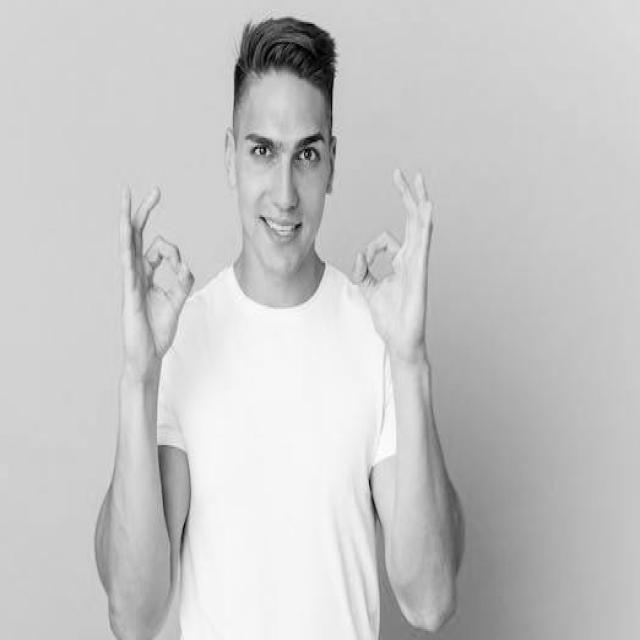perfect: (350, 159, 440, 362), (113, 176, 200, 374)
